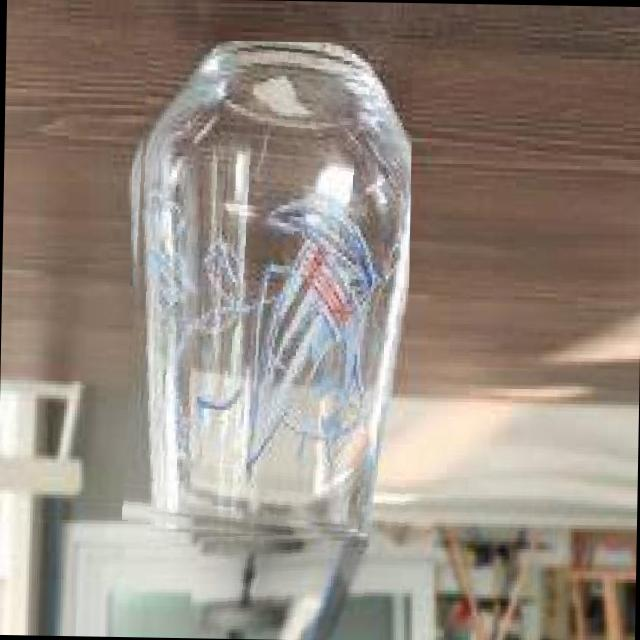Glass: (120, 37, 412, 544), (183, 527, 368, 640)
